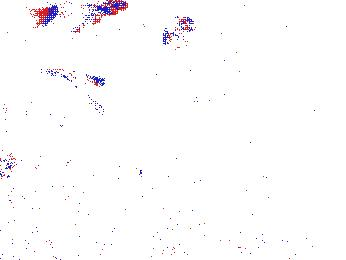X-ray fish: (130, 159, 182, 187), (243, 227, 294, 255)
redtail glassfish: (40, 1, 130, 29), (165, 12, 197, 49)
